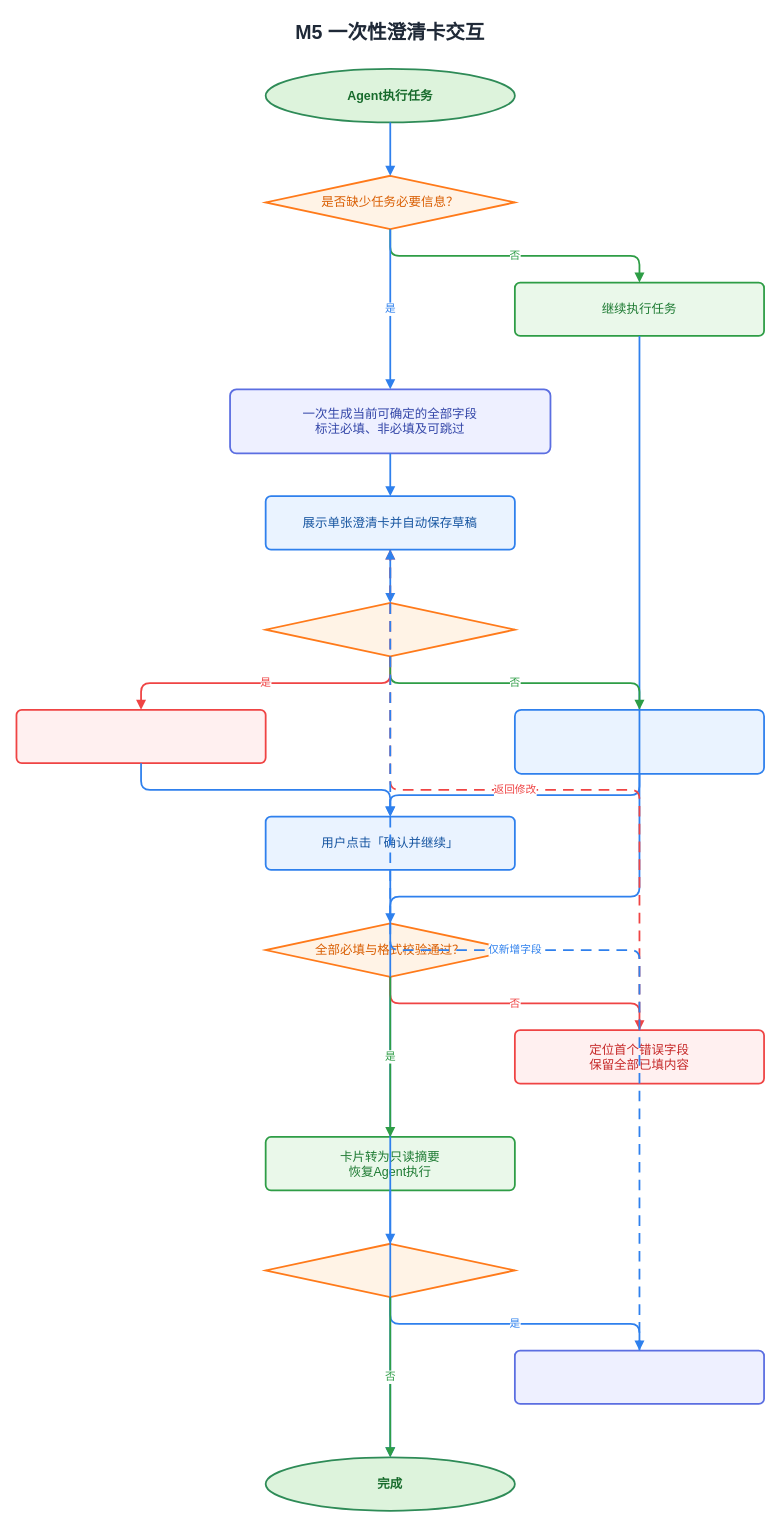
This 780x1526 diagram has some shape labels left out. The shapes that lost their labels are listed below. From the top down, each one's box as (x1, y1, x2, y2) in pixels, then its label:
(264, 602, 515, 657): mustClarify？
(15, 708, 266, 764): 不展示整卡跳过 必填不可跳过
(514, 708, 765, 774): 允许整卡按已有信息继续 非必填可按字段跳过
(264, 1242, 515, 1298): 后续出现新的未知信息？
(514, 1349, 765, 1404): 仅为新增未知项生成下一张卡
